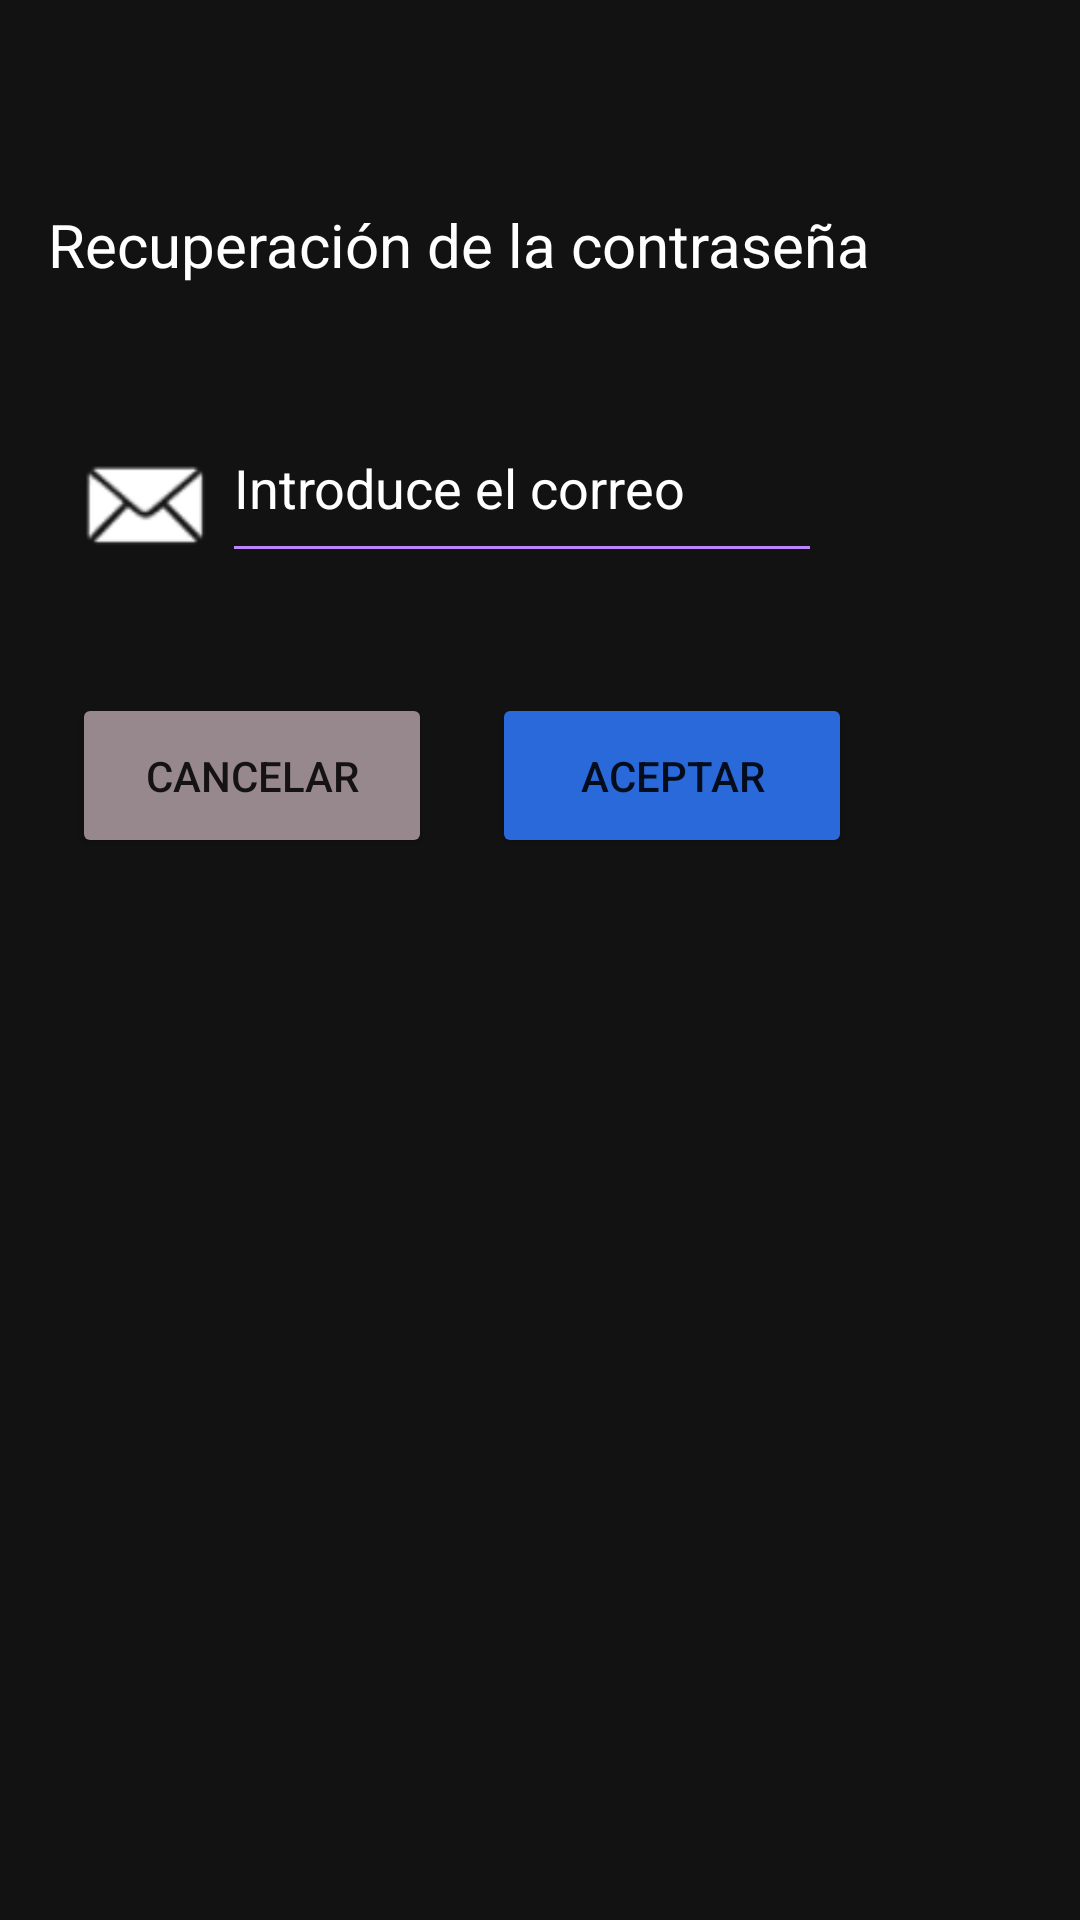

Icon click points for this 1080 × 1920 phone screenshot, format [x,y]:
sym action email: [145,504]
